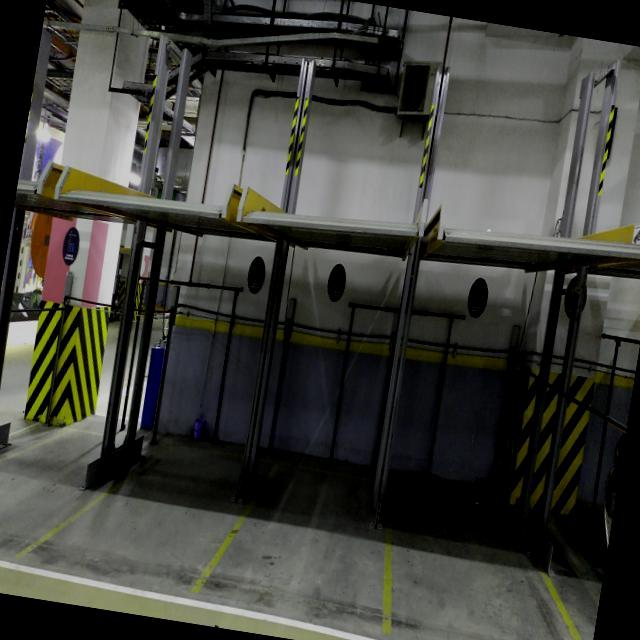free: (244, 483, 381, 640), (382, 511, 542, 640), (108, 432, 222, 604), (0, 412, 51, 550)
